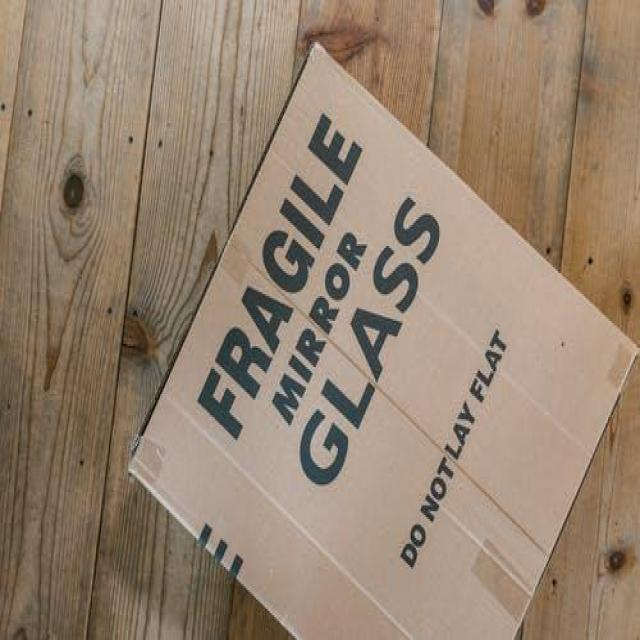cardboard: (124, 37, 640, 639)
